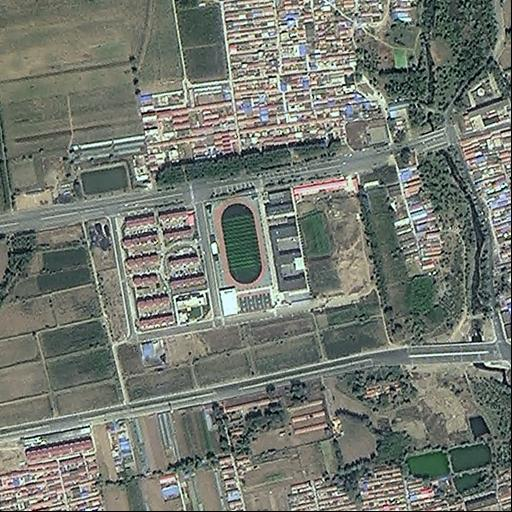school: (200, 187, 279, 320)
